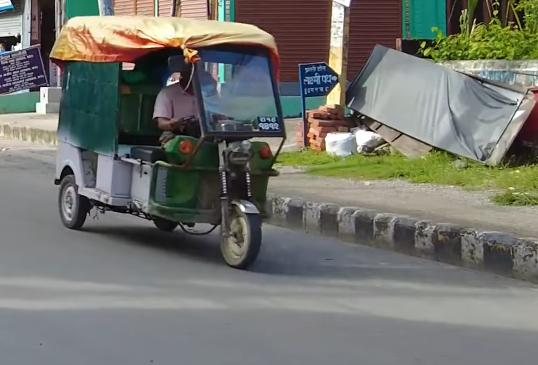e-rickshaw: (52, 7, 286, 280)
